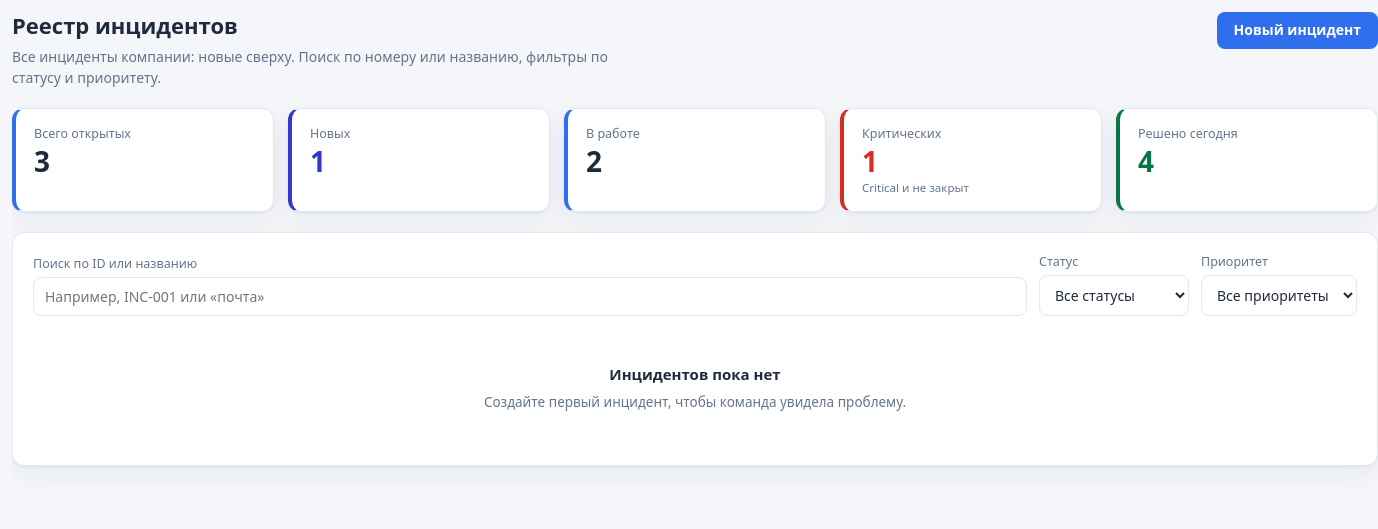
Test: IncidentsPage — реестр › различает «ничего не найдено» при активных фильтрах
Check: the text "Инцидентов пока нет" is shown, box [609,364,781,384]
In the search field labelled "Поиск по ID или названию": (530, 297) [33,277,1027,316], type "несуществующий"
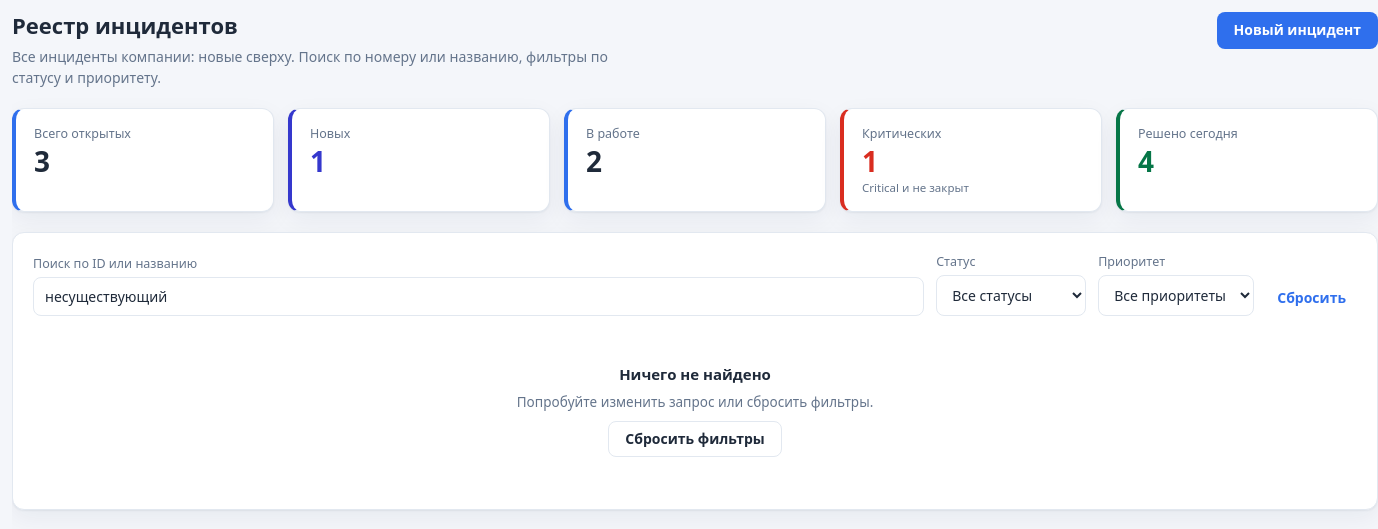
Check: the text "Ничего не найдено" is shown, box [619,364,771,384]
Check: the button "Сбросить фильтры" is shown, box [608,420,782,457]
